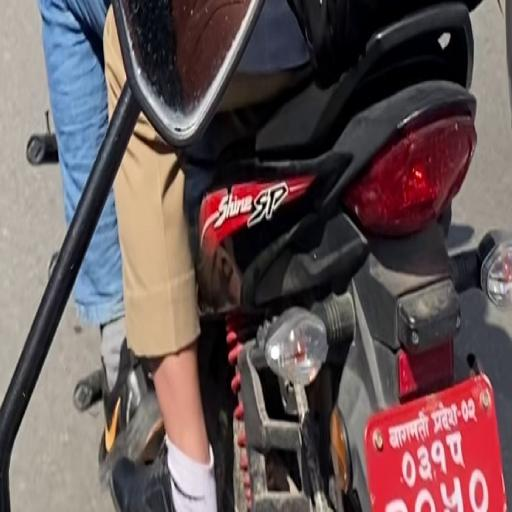license_plate: (357, 365, 511, 511)
